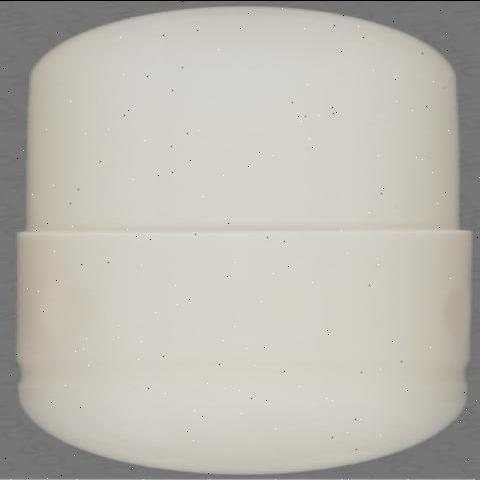Pill: (5, 0, 473, 471)
